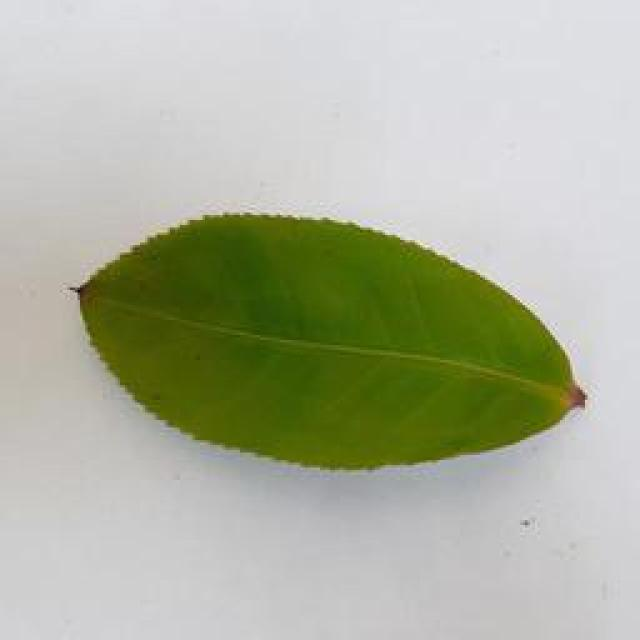Healthy: (66, 199, 586, 479)
